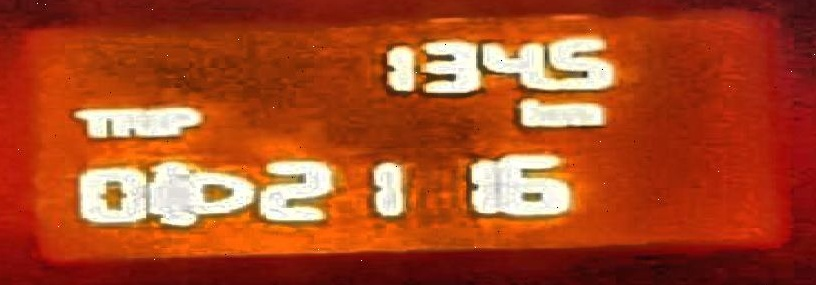-: (540, 72, 556, 93)
0: (74, 161, 143, 226)
1: (365, 155, 411, 221), (378, 38, 418, 95), (469, 151, 500, 220)
2: (258, 154, 340, 226)
3: (422, 35, 476, 95)
4: (478, 39, 542, 89)
5: (547, 31, 620, 90)
6: (498, 150, 576, 216)
X: (551, 103, 607, 128), (514, 95, 552, 131), (165, 103, 203, 137), (69, 106, 107, 139), (109, 104, 140, 136), (145, 104, 165, 138)
